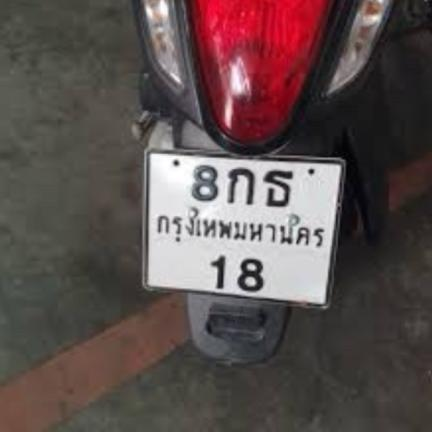1: (205, 249, 231, 291)
8: (236, 252, 267, 295), (188, 160, 218, 202)
A01: (225, 165, 255, 206)
A24: (262, 168, 294, 210)
BKK: (149, 209, 331, 257)
